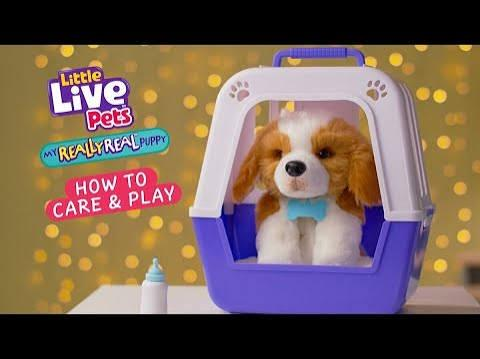non-dog: (232, 112, 381, 269)
